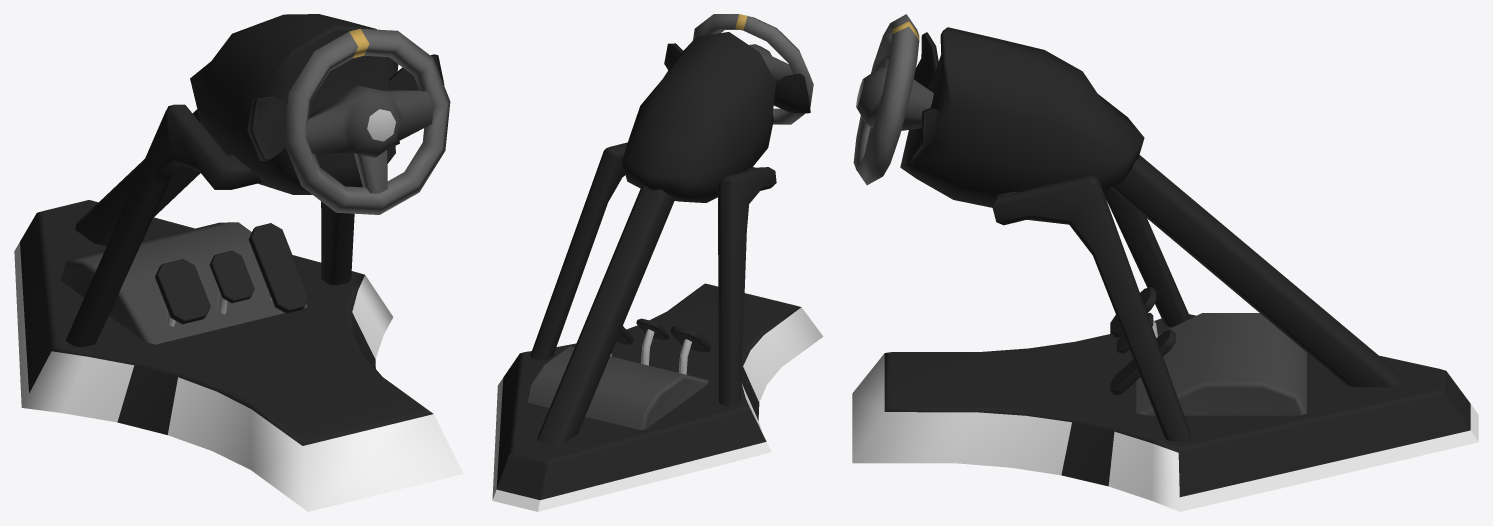
Rendered from entertainment_003.fbx.
The picture shows the model from 3 angles, left to right: view 1: azimuth 30°, elevation 25°; view 2: azimuth 150°, elevation 25°; view 3: azimuth 270°, elevation 25°; orthographic projection. The views are drawn at different scales.
Visible parts, largest first — view 1: entertainment_003; view 2: entertainment_003; view 3: entertainment_003.
Boxes of the visible parts, x1,y1,x2,y2 form: entertainment_003: (14,14,463,511); entertainment_003: (492,14,823,511); entertainment_003: (852,14,1478,511).
Size of the model in its own units: 93.93 by 149 by 106.
